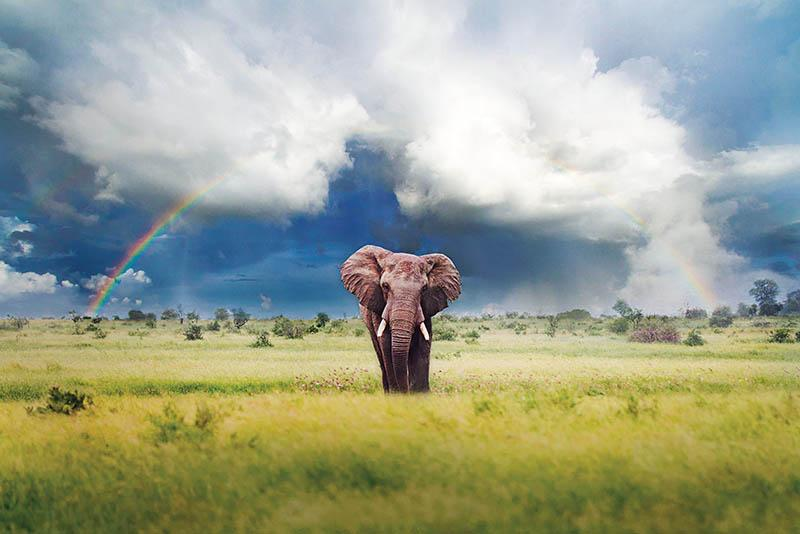animal: (341, 220, 493, 467)
